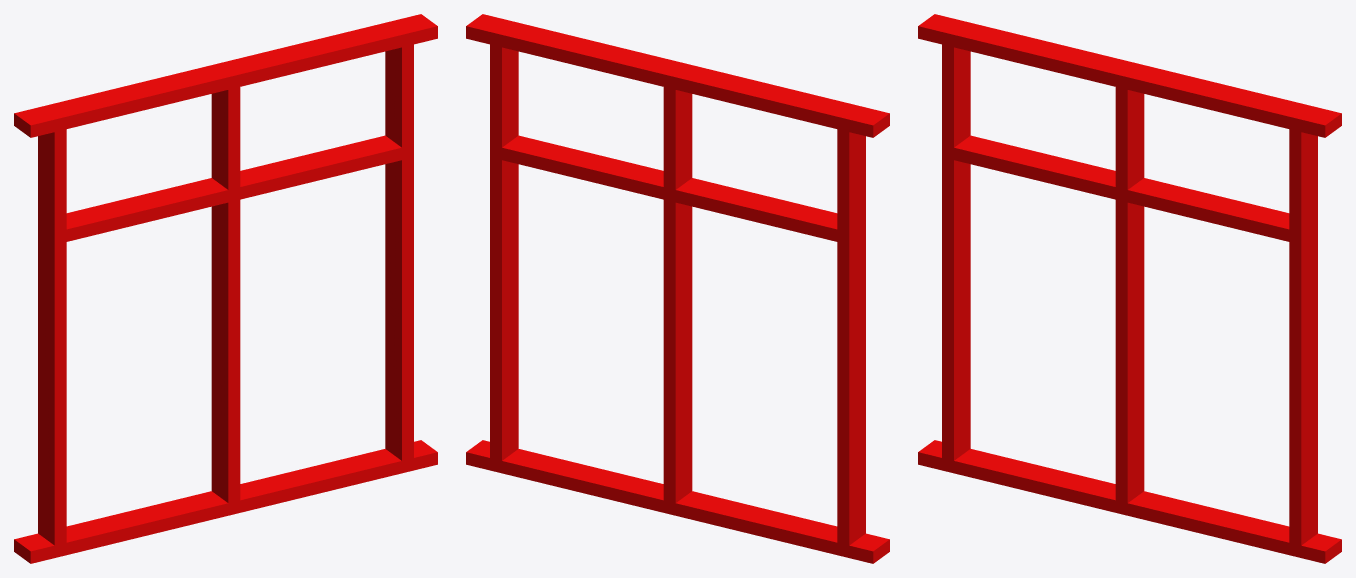
Rendered from REV1-Jendela.fbx.
The picture shows the model from 3 angles, left to right: view 1: azimuth 30°, elevation 25°; view 2: azimuth 150°, elevation 25°; view 3: azimuth 330°, elevation 25°; orthographic projection.
Parts seen in each view (by area): view 1: Model; view 2: Model; view 3: Model.
Boxes of the visible parts, box(x1,y1,x2,y2) form: Model: box(14, 14, 437, 563); Model: box(466, 14, 889, 563); Model: box(918, 14, 1341, 563).
Bounding box in the file's own units: 1.7 × 1.75 × 0.12.
